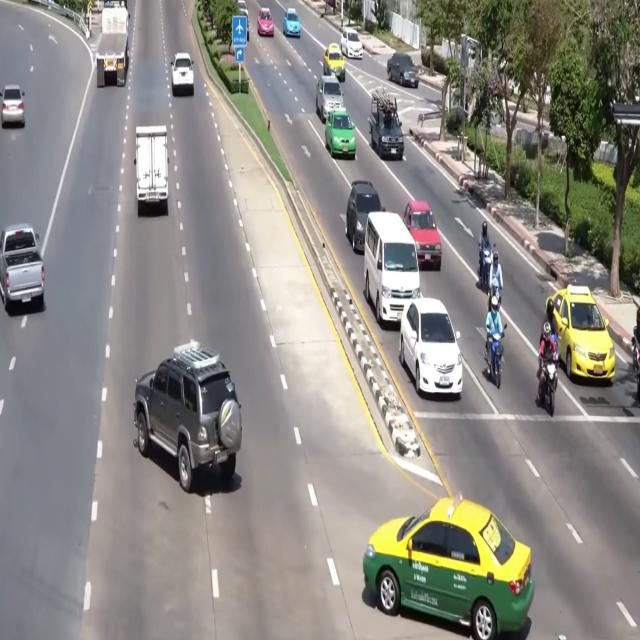car: (363, 496, 534, 639), (134, 342, 241, 492), (547, 285, 615, 380), (399, 298, 463, 398), (345, 180, 385, 252), (403, 200, 441, 270), (325, 109, 355, 159), (316, 76, 344, 123), (387, 52, 418, 87), (0, 85, 25, 127), (171, 53, 194, 95), (323, 43, 345, 81), (340, 27, 362, 59), (283, 8, 300, 37), (257, 8, 273, 37), (238, 0, 249, 41)
scooty: (484, 324, 507, 388), (541, 362, 557, 416), (542, 359, 557, 416), (480, 248, 492, 291), (631, 344, 639, 404), (488, 285, 501, 309)
truck: (0, 224, 44, 311), (134, 126, 168, 215), (96, 1, 129, 87), (369, 88, 404, 159)
